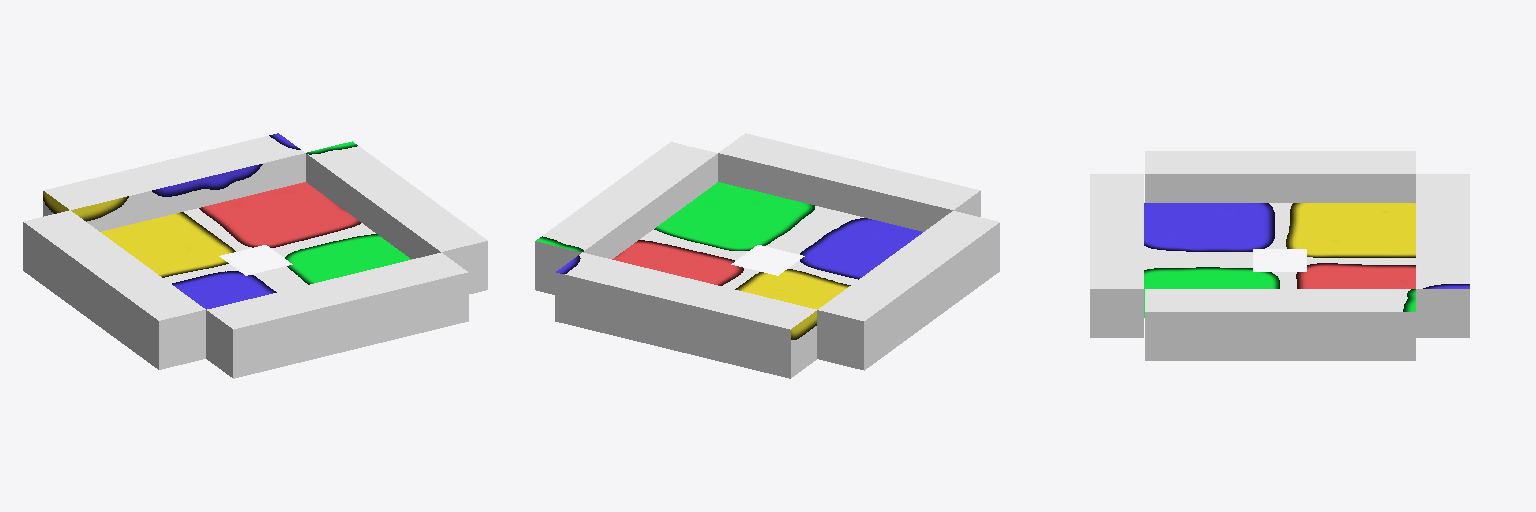
The picture shows the model from 3 angles: view 1: azimuth 30°, elevation 25°; view 2: azimuth 150°, elevation 25°; view 3: azimuth 270°, elevation 25°; orthographic projection.
Visible parts, largest first — view 1: 平面_平面.002; view 2: 平面_平面.002; view 3: 平面_平面.002.
Boxes of the visible parts, <box> form: 平面_平面.002: <box>23,133,487,378</box>; 平面_平面.002: <box>535,133,999,378</box>; 平面_平面.002: <box>1090,151,1469,360</box>.
Size of the model in its own units: 2.8 by 0.4 by 2.8.
1 materials, 1 textured.